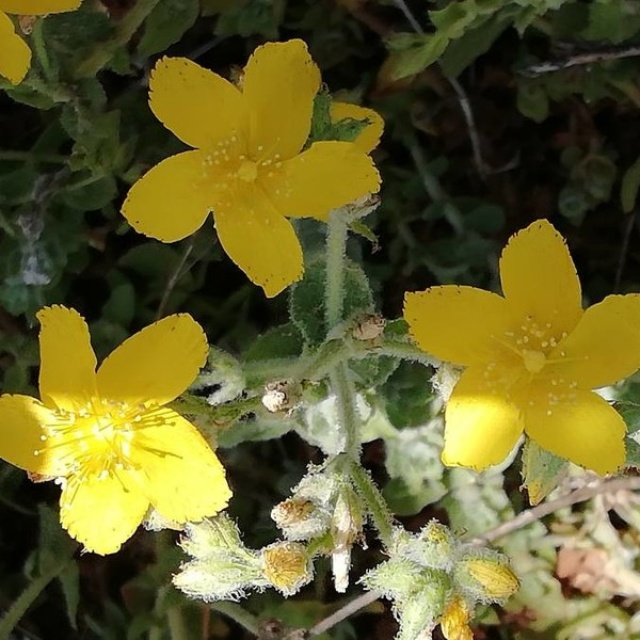obstacle: (42, 45, 614, 550)
